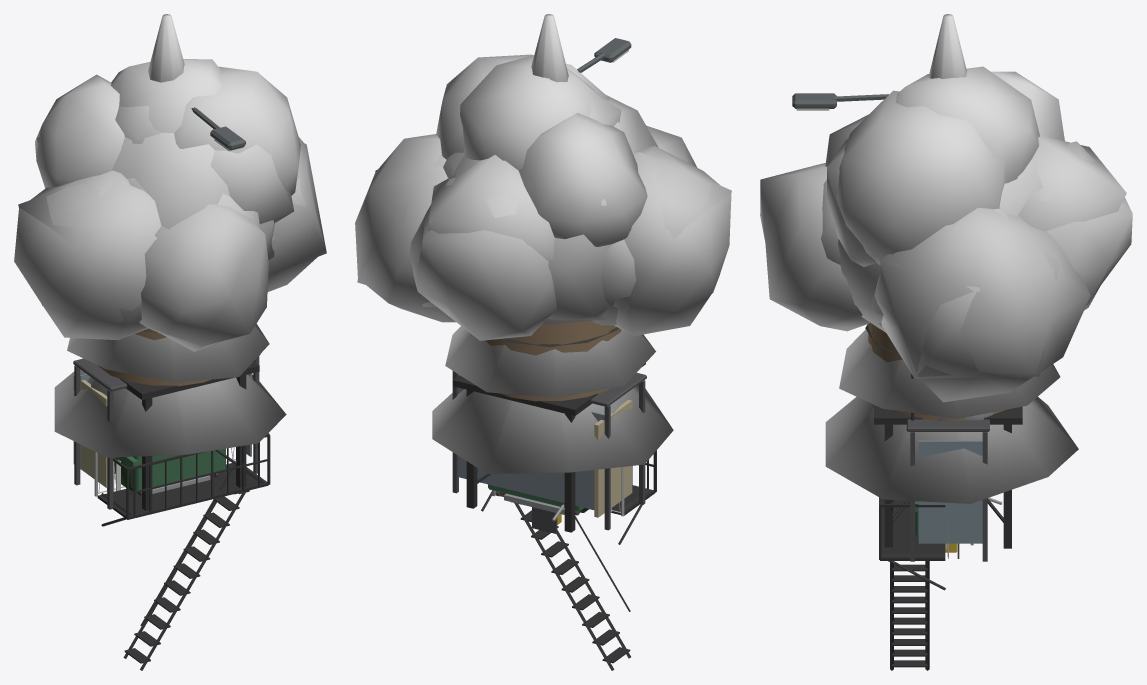
File: props.glb
3 renders of one model, left to right at view 1: azimuth 30°, elevation 25°; view 2: azimuth 150°, elevation 25°; view 3: azimuth 270°, elevation 25°, orthographic. The views are drawn at different scales.
Visible parts, largest first — view 1: p_oak_leaves, p_pine_leaves, p_oak_leaves_lo, p_fesc, p_maple_leaves, p_busstop, p_tank, p_dumpster, p_maple_leaves_lo, p_streetlight; view 2: p_oak_leaves, p_pine_leaves, p_maple_leaves, p_oak_leaves_lo, p_busstop, p_tank, p_fesc, p_maple_leaves_lo, p_streetlight, p_signal; view 3: p_oak_leaves, p_pine_leaves, p_oak_leaves_lo, p_maple_leaves, p_fesc, p_busstop, p_tank, p_streetlight.
Boxes of the visible parts, bbox=[...] form: p_oak_leaves: bbox=[14, 66, 325, 351]; p_pine_leaves: bbox=[54, 14, 286, 457]; p_oak_leaves_lo: bbox=[18, 136, 326, 324]; p_fesc: bbox=[97, 433, 270, 670]; p_maple_leaves: bbox=[111, 59, 295, 240]; p_busstop: bbox=[73, 354, 260, 509]; p_tank: bbox=[98, 328, 259, 510]; p_dumpster: bbox=[120, 448, 225, 495]; p_maple_leaves_lo: bbox=[110, 82, 161, 194]; p_streetlight: bbox=[191, 107, 245, 150]; p_oak_leaves: bbox=[355, 54, 731, 340]; p_pine_leaves: bbox=[432, 14, 673, 473]; p_maple_leaves: bbox=[422, 55, 636, 325]; p_oak_leaves_lo: bbox=[357, 152, 731, 310]; p_busstop: bbox=[452, 371, 646, 530]; p_tank: bbox=[452, 320, 645, 532]; p_fesc: bbox=[481, 450, 656, 670]; p_maple_leaves_lo: bbox=[532, 74, 638, 153]; p_streetlight: bbox=[577, 38, 631, 72]; p_signal: bbox=[532, 507, 561, 533]; p_oak_leaves: bbox=[760, 71, 1132, 402]; p_pine_leaves: bbox=[825, 14, 1078, 503]; p_oak_leaves_lo: bbox=[827, 135, 1126, 378]; p_maple_leaves: bbox=[821, 66, 1039, 305]; p_fesc: bbox=[879, 497, 945, 670]; p_busstop: bbox=[906, 419, 989, 561]; p_tank: bbox=[865, 322, 1022, 548]; p_streetlight: bbox=[792, 93, 888, 108].
Size of the model in its own units: 6.65 by 12.67 by 6.28.
